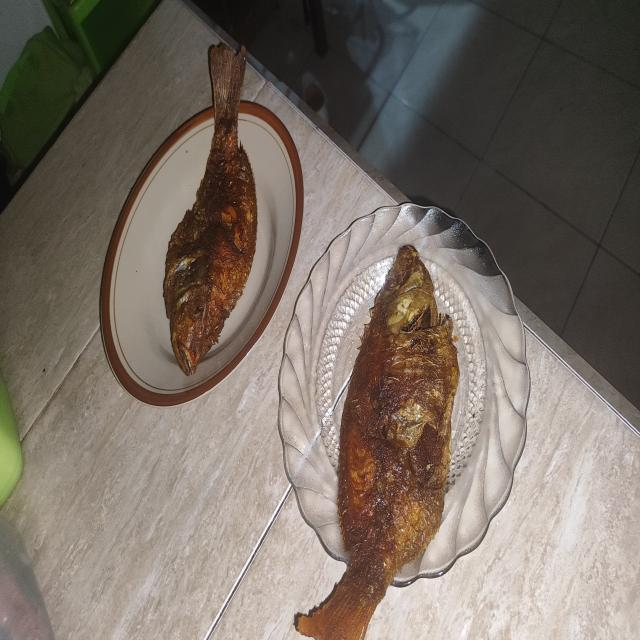ikan_mujair: (294, 245, 460, 640), (163, 44, 257, 375)
